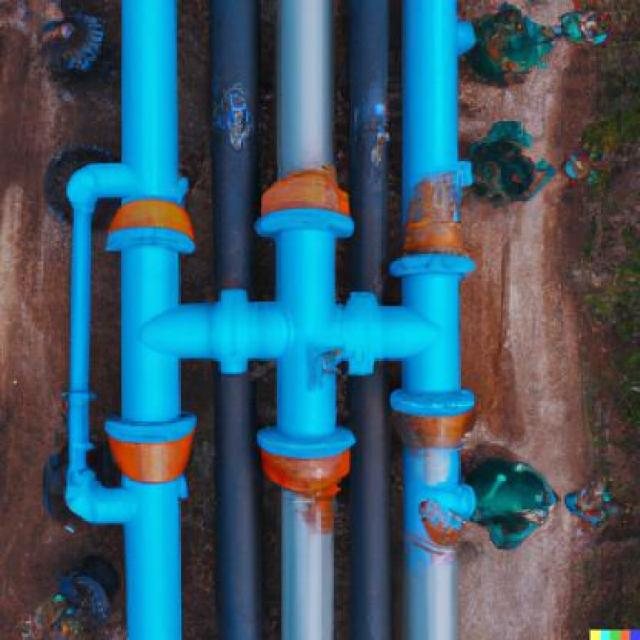gas: (203, 0, 269, 640), (403, 0, 468, 640), (119, 0, 183, 640), (276, 0, 338, 637), (347, 0, 395, 640), (61, 162, 125, 526)
